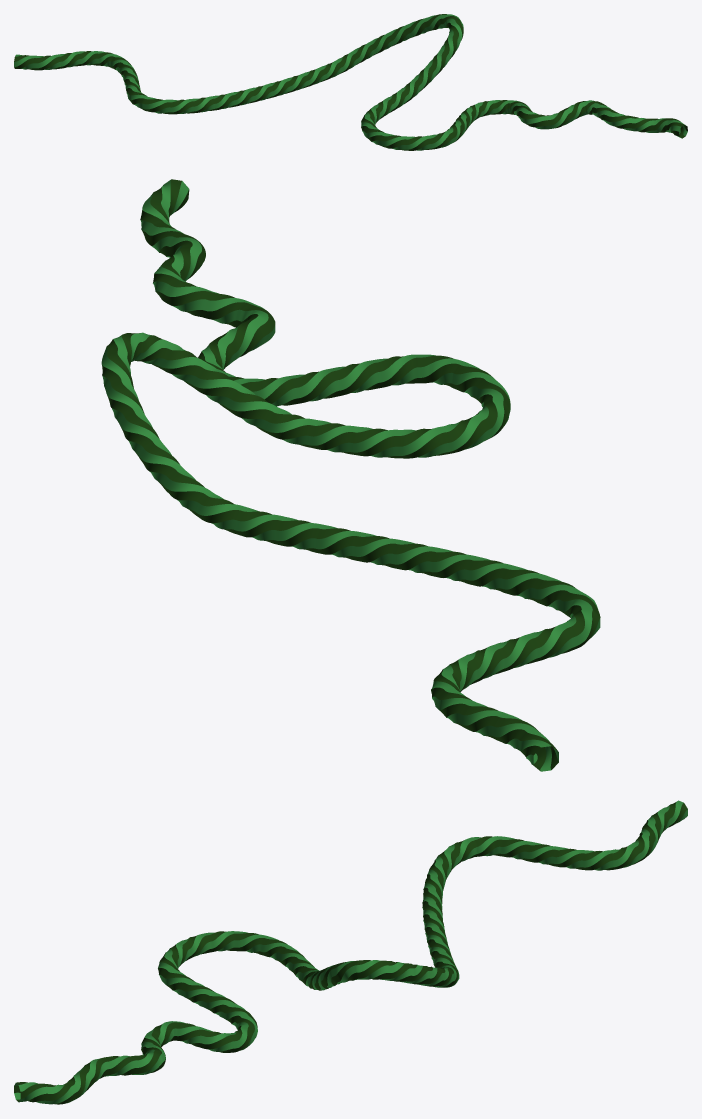
File: map.fbx
3 views of the same model, one above another, from view 1: azimuth 30°, elevation 25°; view 2: azimuth 150°, elevation 25°; view 3: azimuth 270°, elevation 25° (orthographic). The views are drawn at different scales.
Visible parts, largest first — view 1: Root; view 2: Root; view 3: Root.
Boxes of the visible parts, x1=… form: Root: x1=14, y1=14, x2=687, y2=150; Root: x1=101, y1=179, x2=600, y2=771; Root: x1=14, y1=800, x2=687, y2=1104.
Size of the model in its own units: 23475 by 3260 by 22837.
